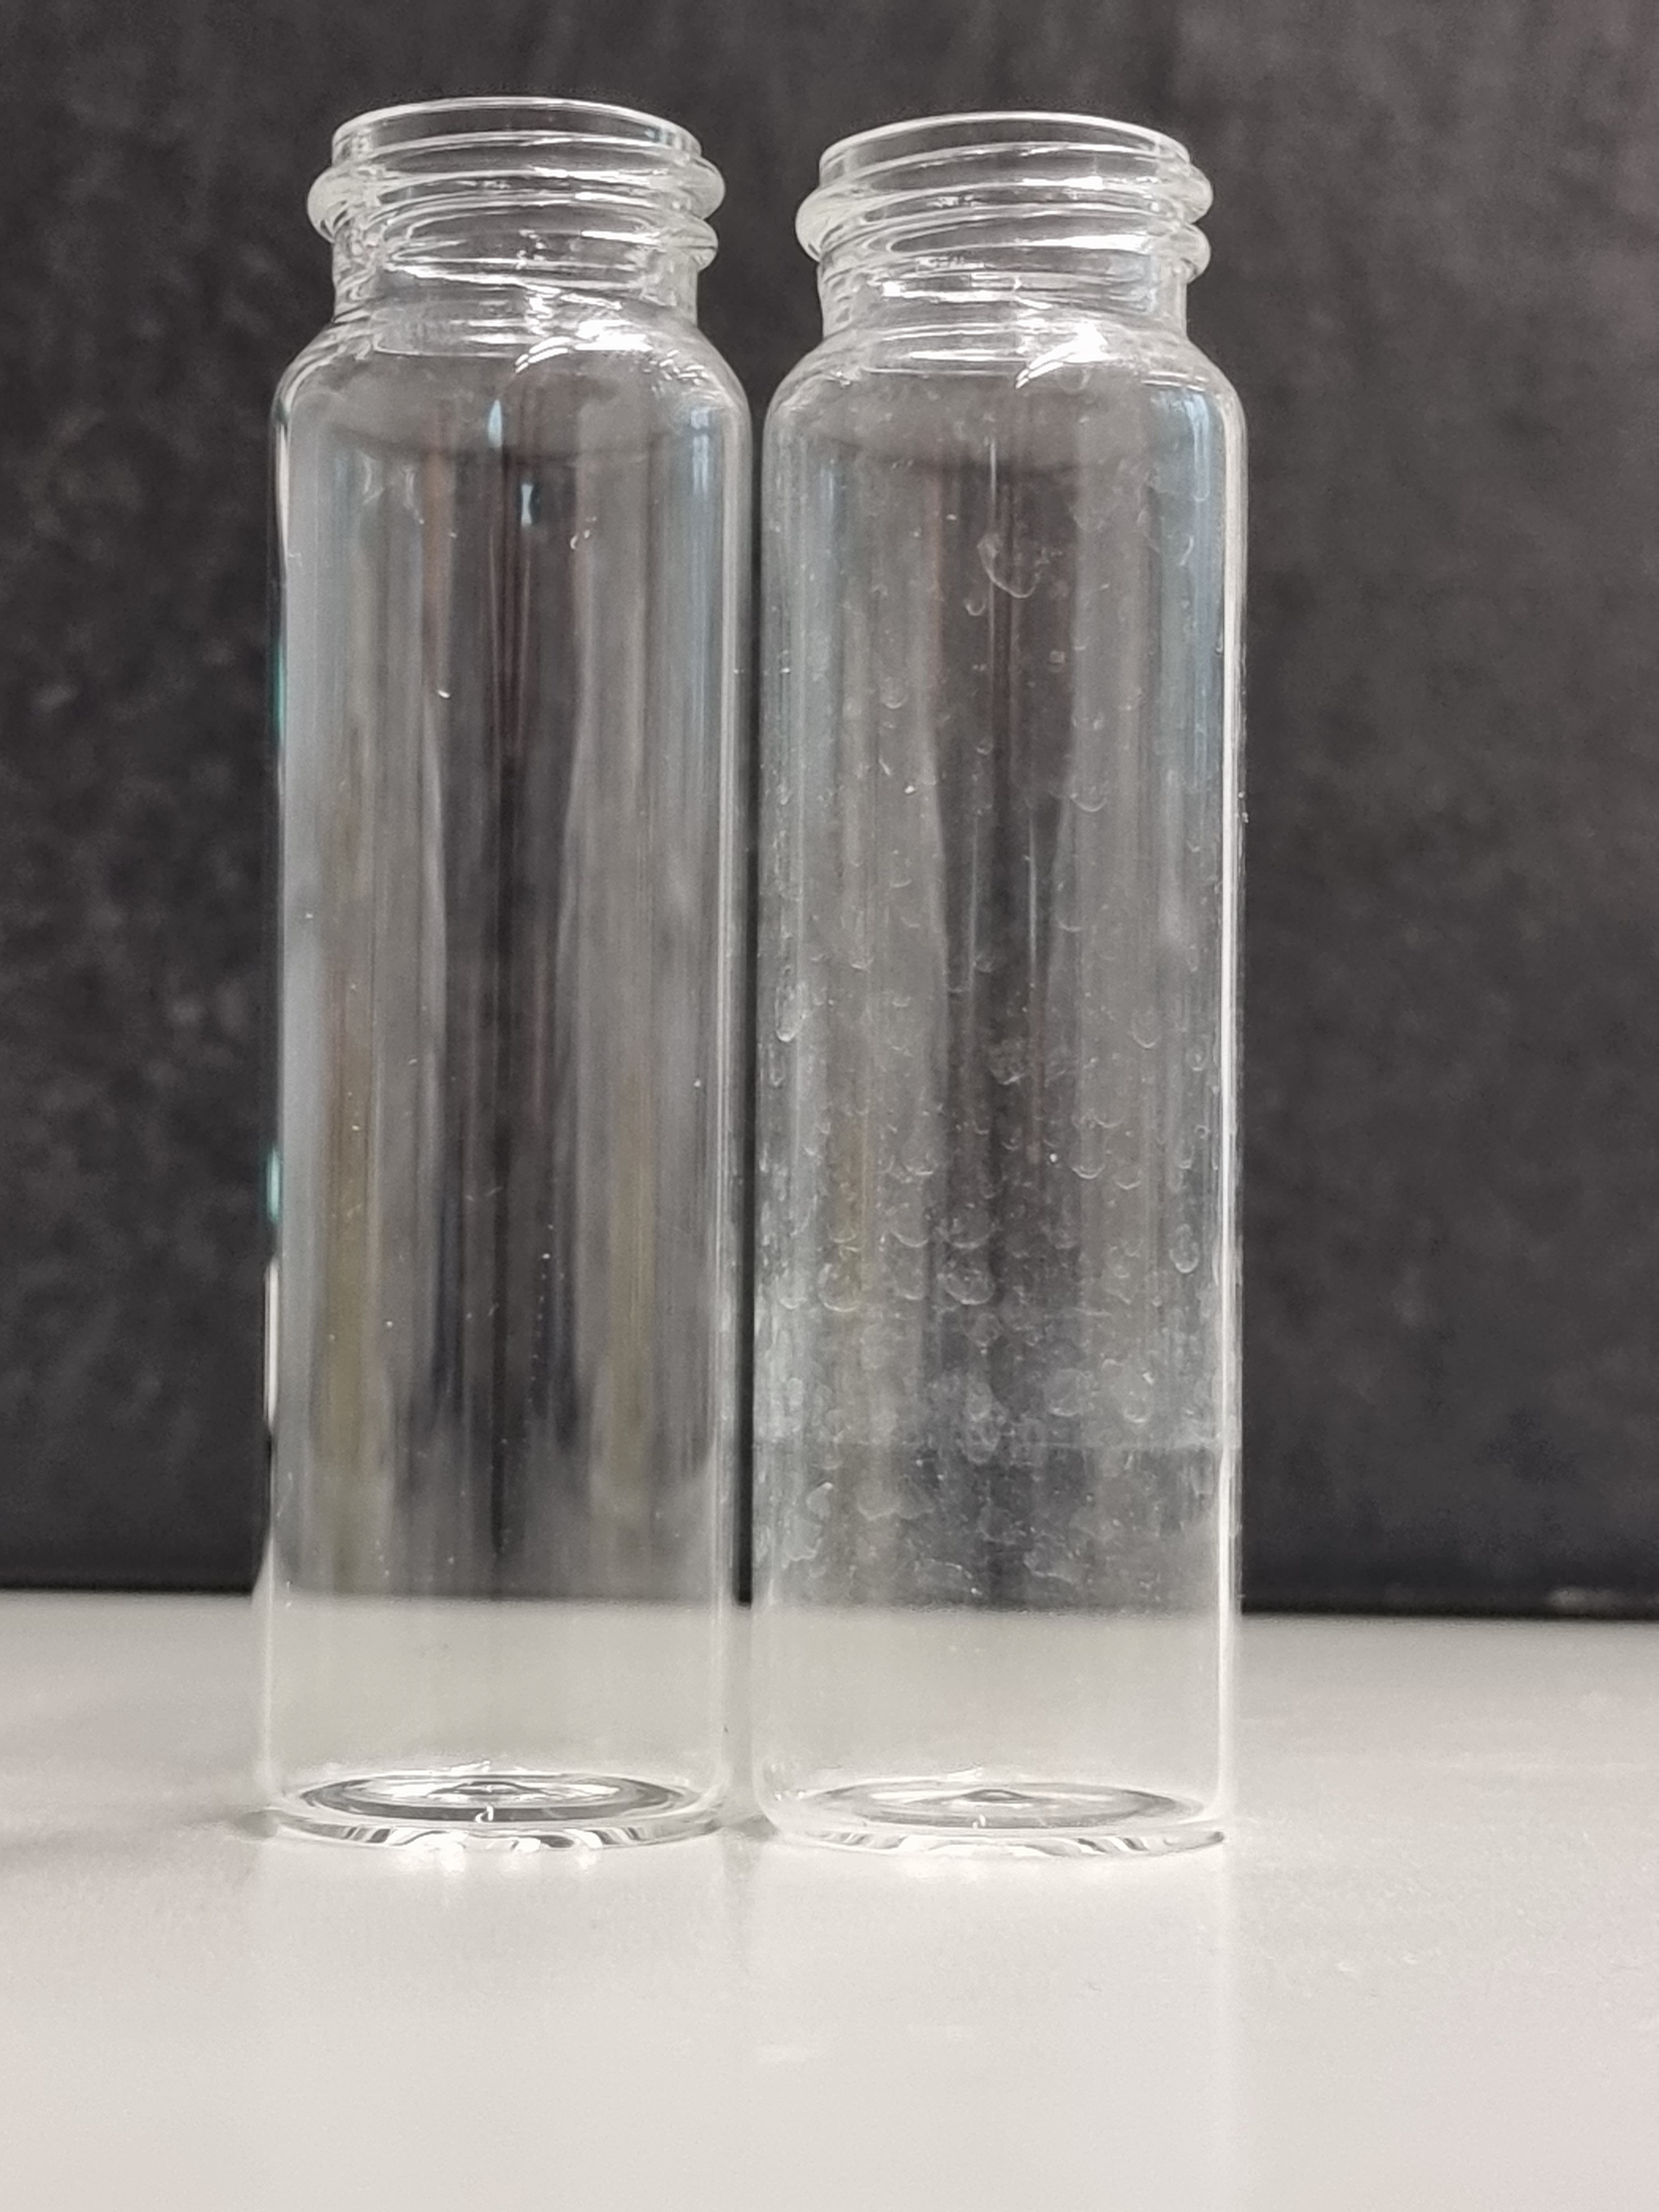vial: (744, 105, 1236, 1869), (253, 101, 744, 1853)
